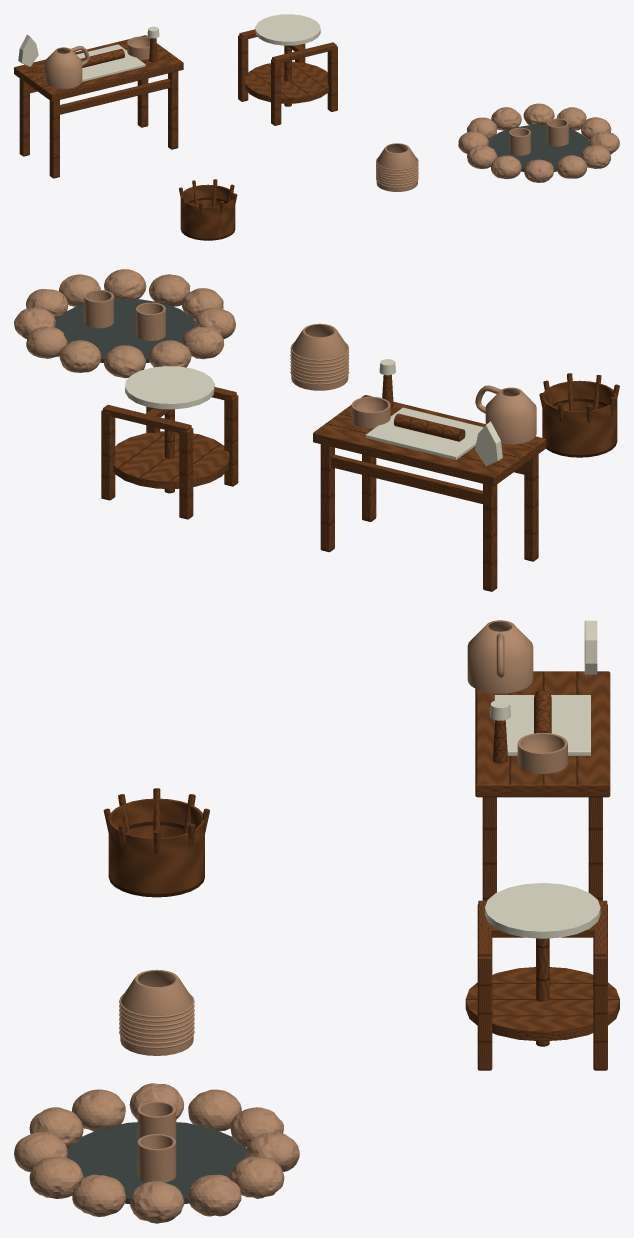
The model's file is primitive-crafting-workshop-clay-and-stone-workshop-90ac5056__21591.glb.
3 renders of one model, top to bottom at view 1: azimuth 30°, elevation 25°; view 2: azimuth 150°, elevation 25°; view 3: azimuth 270°, elevation 25°, orthographic. The views are drawn at different scales.
Visible parts, largest first — view 1: 000-clay-working-table/0, 002-pit-kiln/0, 001-pottery-wheel/0, 006-basket-form/0, 002-pit-kiln/1, 007-coil-built-jar/0, 001-pottery-wheel/wheel-head/ivory, 003-clay-water-jug/0, 000-clay-working-table/1, 000-clay-working-table/2, 005-flint-handaxe/0; view 2: 000-clay-working-table/0, 002-pit-kiln/0, 001-pottery-wheel/0, 006-basket-form/0, 002-pit-kiln/1, 007-coil-built-jar/0, 001-pottery-wheel/wheel-head/ivory, 000-clay-working-table/1, 003-clay-water-jug/0, 000-clay-working-table/2, 005-flint-handaxe/0; view 3: 002-pit-kiln/0, 001-pottery-wheel/0, 000-clay-working-table/0, 006-basket-form/0, 002-pit-kiln/1, 007-coil-built-jar/0, 001-pottery-wheel/wheel-head/ivory, 003-clay-water-jug/0, 000-clay-working-table/1, 000-clay-working-table/2.
Part boxes in pixels (x1,y1,x2,y2): 000-clay-working-table/0: (14, 35, 183, 178); 002-pit-kiln/0: (458, 103, 619, 182); 001-pottery-wheel/0: (238, 29, 337, 125); 006-basket-form/0: (179, 179, 237, 240); 002-pit-kiln/1: (488, 125, 589, 171); 007-coil-built-jar/0: (376, 143, 418, 191); 001-pottery-wheel/wheel-head/ivory: (255, 14, 320, 45); 003-clay-water-jug/0: (45, 46, 89, 88); 000-clay-working-table/1: (76, 44, 145, 81); 000-clay-working-table/2: (127, 36, 150, 59); 005-flint-handaxe/0: (18, 34, 38, 66); 000-clay-working-table/0: (313, 395, 546, 591); 002-pit-kiln/0: (14, 269, 235, 378); 001-pottery-wheel/0: (101, 387, 238, 519); 006-basket-form/0: (539, 373, 619, 457); 002-pit-kiln/1: (55, 299, 194, 362); 007-coil-built-jar/0: (290, 323, 349, 390); 001-pottery-wheel/wheel-head/ivory: (125, 366, 214, 409); 000-clay-working-table/1: (365, 407, 483, 459); 003-clay-water-jug/0: (475, 385, 536, 444); 000-clay-working-table/2: (351, 396, 390, 428); 005-flint-handaxe/0: (475, 421, 502, 466); 002-pit-kiln/0: (14, 1083, 299, 1223); 001-pottery-wheel/0: (465, 900, 619, 1070); 000-clay-working-table/0: (475, 671, 610, 900); 006-basket-form/0: (103, 788, 209, 897); 002-pit-kiln/1: (67, 1122, 246, 1204); 007-coil-built-jar/0: (119, 969, 194, 1055); 001-pottery-wheel/wheel-head/ivory: (485, 883, 600, 938); 003-clay-water-jug/0: (467, 620, 533, 693); 000-clay-working-table/1: (494, 695, 590, 755); 000-clay-working-table/2: (517, 732, 567, 773).
Bounding box in the file's own units: 4.94 × 1.23 × 3.14.
Materials: 4 (1 with a texture image).
